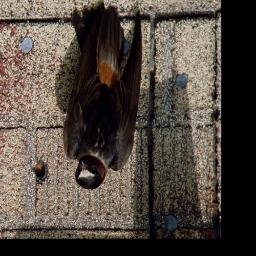Swallow: (63, 1, 144, 190)
